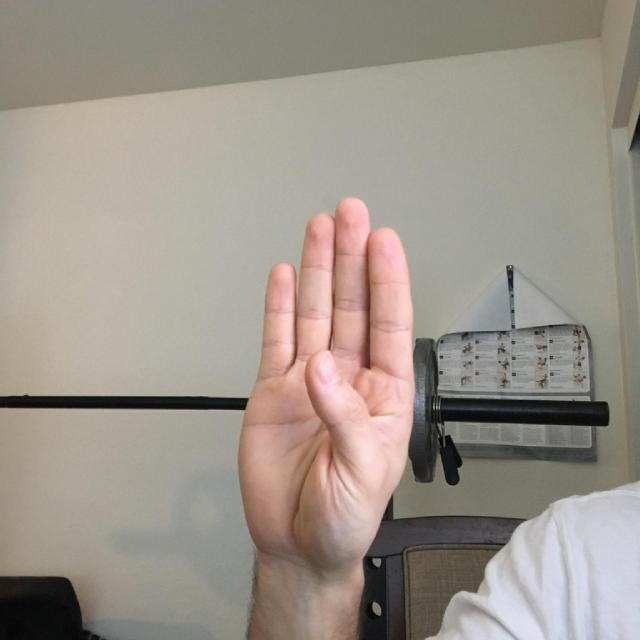B: (210, 174, 460, 586)
